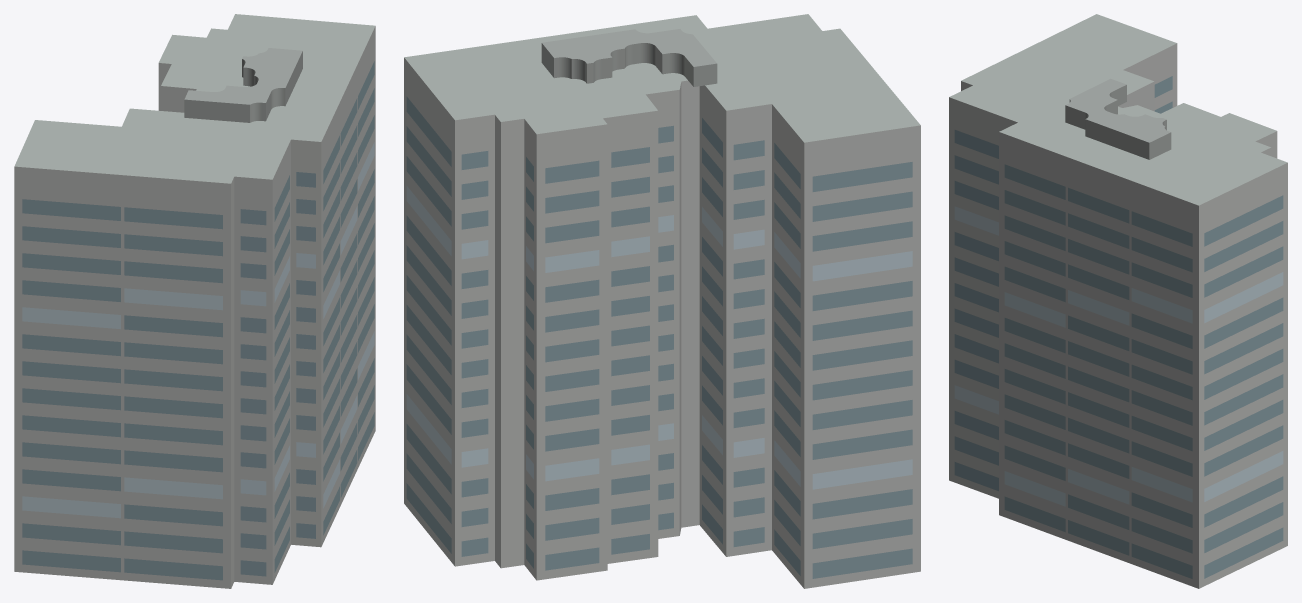
Rendered from fallback-godeok-arteon-332.glb.
3 views of the same model, side by side, from view 1: azimuth 30°, elevation 25°; view 2: azimuth 150°, elevation 25°; view 3: azimuth 270°, elevation 25° (orthographic). The views are drawn at different scales.
Parts seen in each view (by area): view 1: fallback-godeok-arteon-332; view 2: fallback-godeok-arteon-332; view 3: fallback-godeok-arteon-332.
Part boxes in pixels (left/top/right/bottom): fallback-godeok-arteon-332: left=14, top=14, right=375, bottom=588; fallback-godeok-arteon-332: left=404, top=14, right=920, bottom=588; fallback-godeok-arteon-332: left=949, top=14, right=1287, bottom=588.
Bounding box in the file's own units: 49.07 × 47.81 × 36.67.
